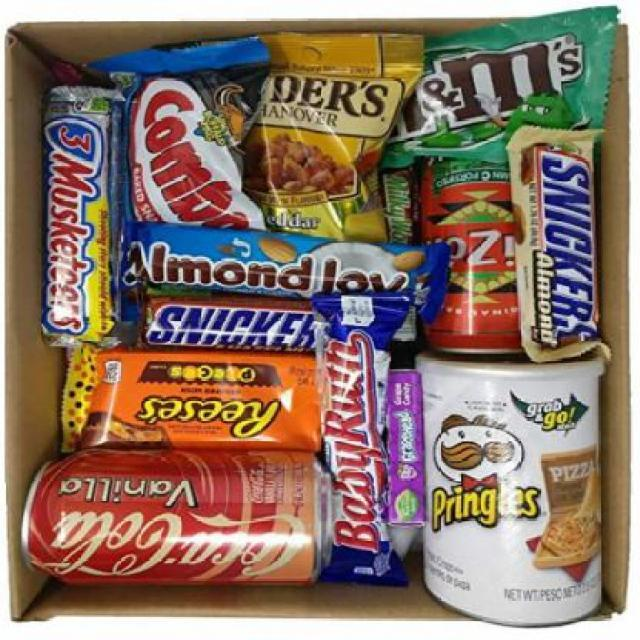Chips: (412, 350, 611, 627)
Chocolate bar: (56, 340, 327, 452), (313, 288, 412, 590), (507, 124, 616, 364), (40, 84, 134, 358), (137, 289, 340, 349)
